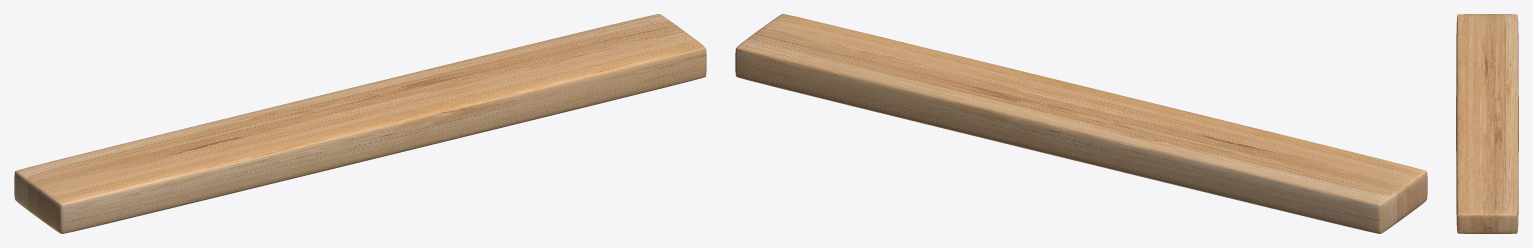
File: wooden_shelf.glb
3 renders of one model, left to right at view 1: azimuth 30°, elevation 25°; view 2: azimuth 150°, elevation 25°; view 3: azimuth 270°, elevation 25°, orthographic. The views are drawn at different scales.
Visible parts, largest first — view 1: Plane; view 2: Plane; view 3: Plane.
Part boxes in pixels (left/top/right/bottom): Plane: left=14, top=14, right=706, bottom=233; Plane: left=735, top=14, right=1427, bottom=233; Plane: left=1456, top=14, right=1518, bottom=233.
Bounding box in the file's own units: 4.01 × 0.1999 × 0.5274.
1 material, 1 textured.
